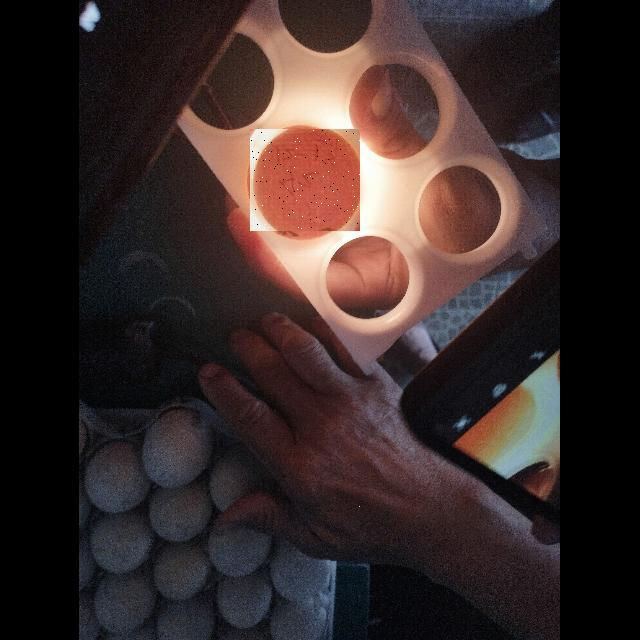Infertile: (250, 129, 360, 231)
